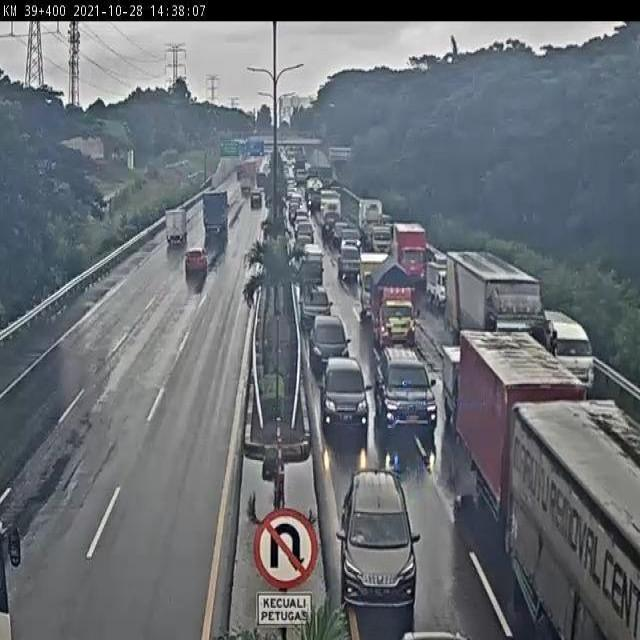car: (339, 464, 415, 601)
truck-l-: (450, 252, 549, 384)
truck-m-: (457, 329, 585, 523), (370, 259, 414, 341)
